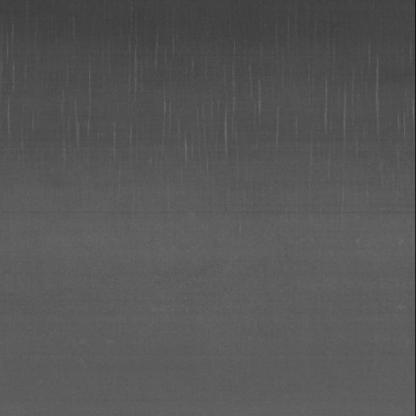waist_folding: (26, 27, 382, 201)
